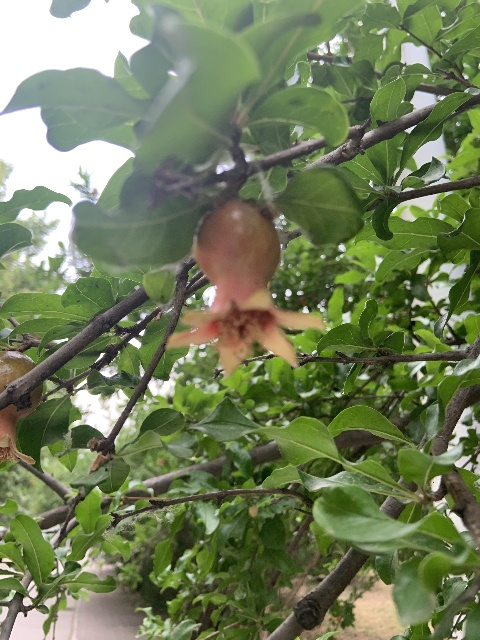early-fruit: (165, 199, 323, 377)
